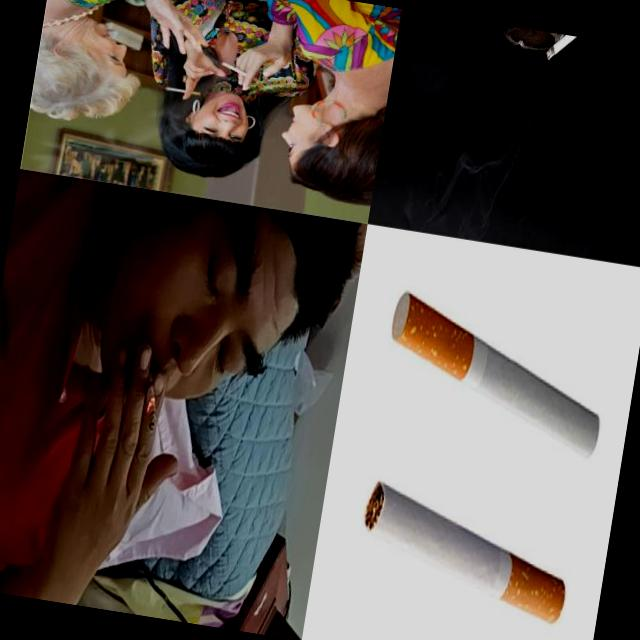cigarette: (376, 288, 618, 462), (352, 480, 578, 628), (543, 34, 610, 74), (137, 366, 164, 432), (218, 61, 262, 83), (163, 85, 202, 96)
